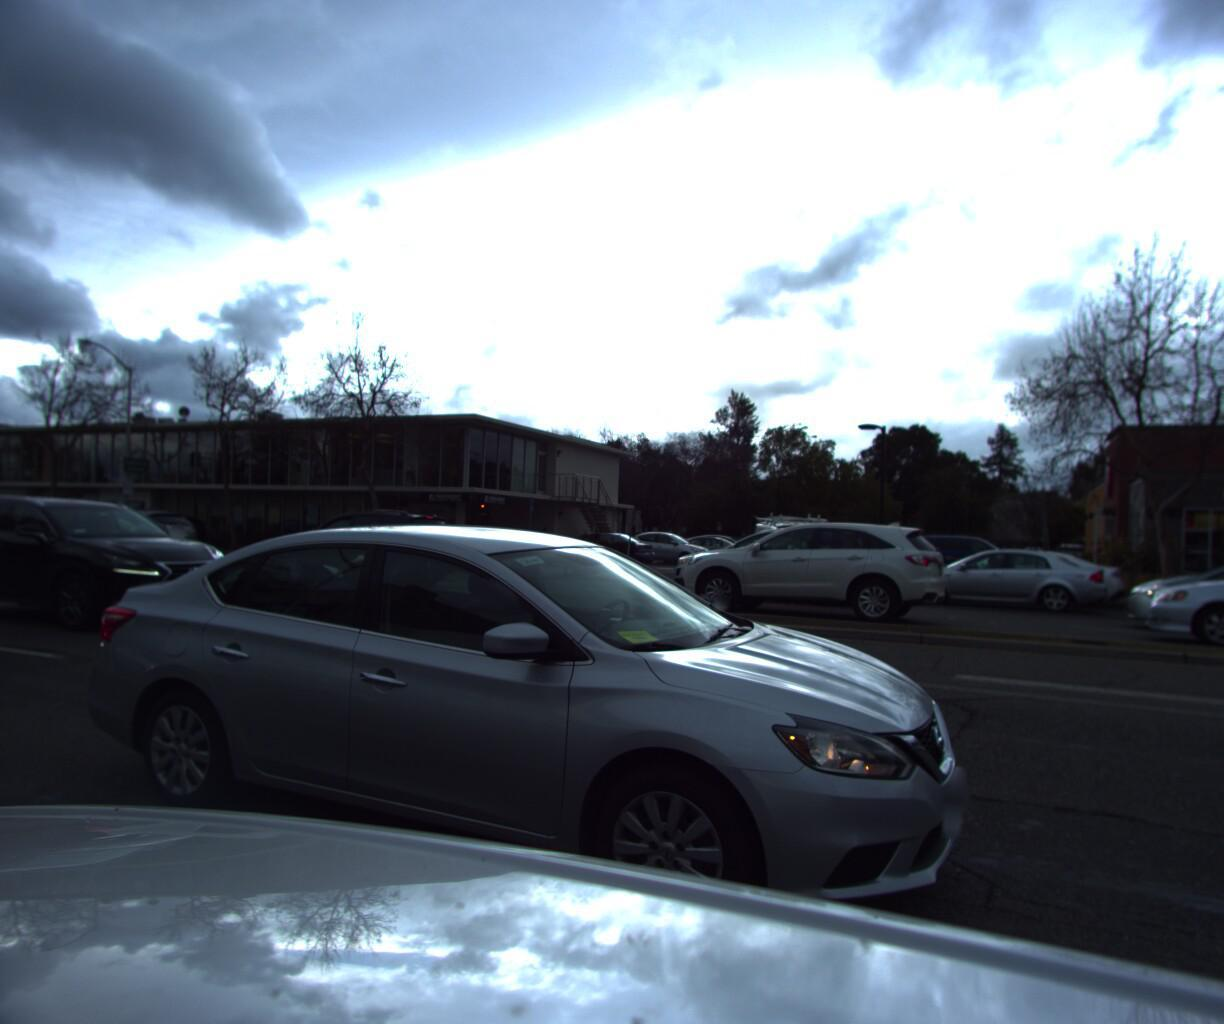car: (42, 504, 988, 1019), (0, 492, 240, 630), (680, 515, 966, 618), (666, 525, 886, 604), (895, 537, 1109, 611), (263, 509, 478, 583), (917, 542, 1125, 609), (1127, 535, 1224, 642), (1150, 537, 1224, 675), (731, 502, 847, 585), (58, 508, 209, 564), (1135, 544, 1224, 619), (548, 529, 662, 567), (611, 529, 719, 568), (0, 507, 18, 731)
